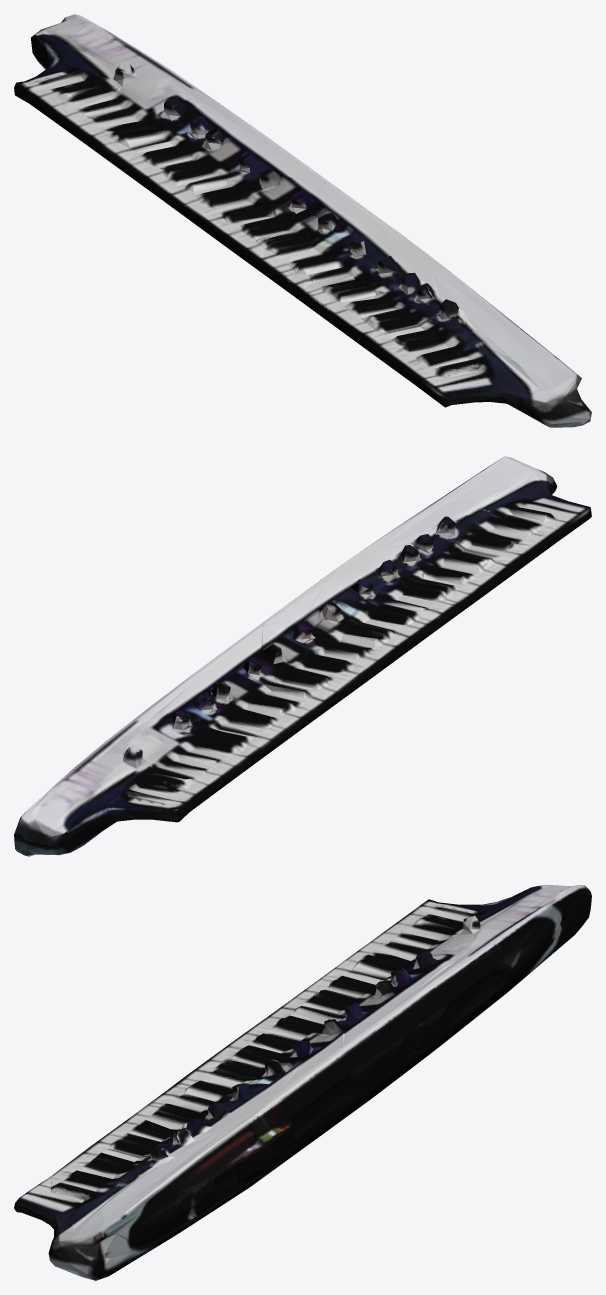
The model's file is ben_keytar.glb.
3 views of the same model, one above another, from view 1: azimuth 30°, elevation 25°; view 2: azimuth 150°, elevation 25°; view 3: azimuth 330°, elevation 25° (orthographic). The views are drawn at different scales.
Parts seen in each view (by area): view 1: textured_mesh.obj; view 2: textured_mesh.obj; view 3: textured_mesh.obj.
Boxes of the visible parts, x1,y1,x2,y2 form: textured_mesh.obj: (14, 14, 591, 427); textured_mesh.obj: (14, 456, 591, 856); textured_mesh.obj: (14, 885, 591, 1280).
Size of the model in its own units: 1.3 by 0.7 by 8.59.
Materials: 1 (1 with a texture image).
